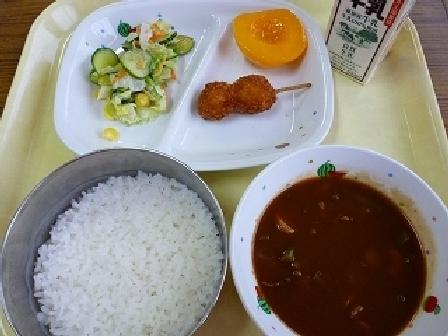Milk: (322, 1, 419, 74)
Rice: (10, 144, 220, 335)
Salad: (78, 11, 191, 129)
peach: (227, 9, 306, 70)
snacks: (194, 67, 315, 125)
soup-plain: (246, 153, 437, 330)
